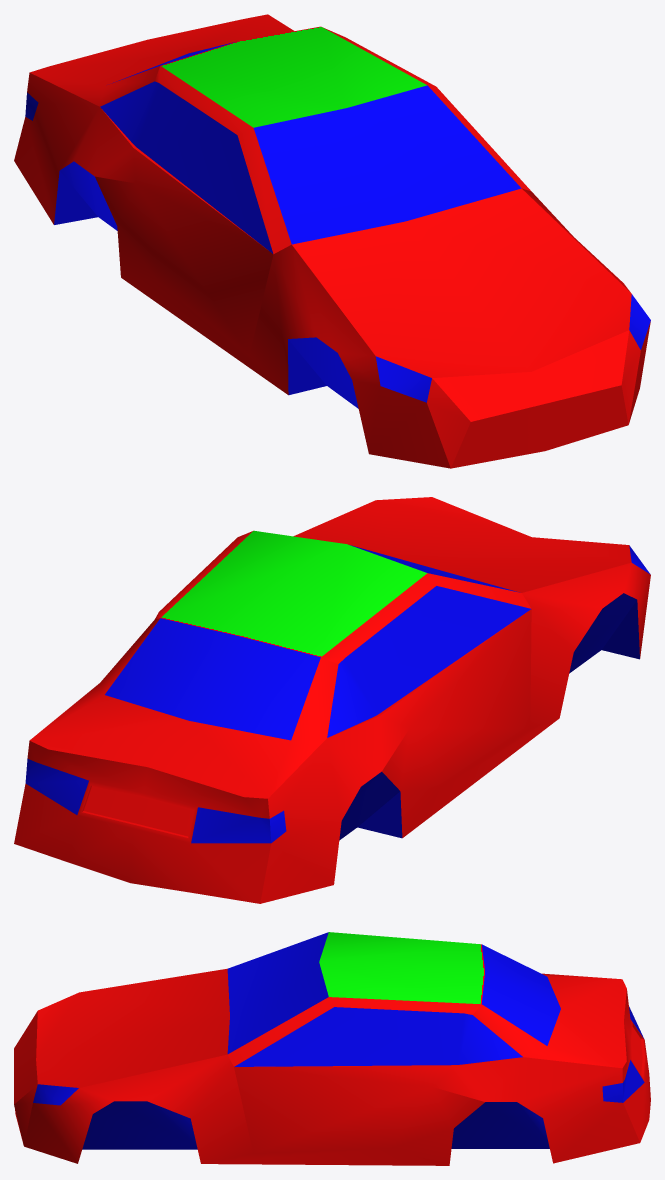
File: sedan-awd-lod2.glb
3 renders of one model, top to bottom at view 1: azimuth 30°, elevation 25°; view 2: azimuth 150°, elevation 25°; view 3: azimuth 270°, elevation 25°, orthographic. The views are drawn at different scales.
Parts seen in each view (by area): view 1: body; view 2: body; view 3: body.
Boxes of the visible parts, x1,y1,x2,y2 form: body: (14, 14, 650, 468); body: (14, 497, 650, 903); body: (14, 932, 650, 1165).
Size of the model in its own units: 2.08 by 1.37 by 5.22.
Materials: 1 (1 with a texture image).
